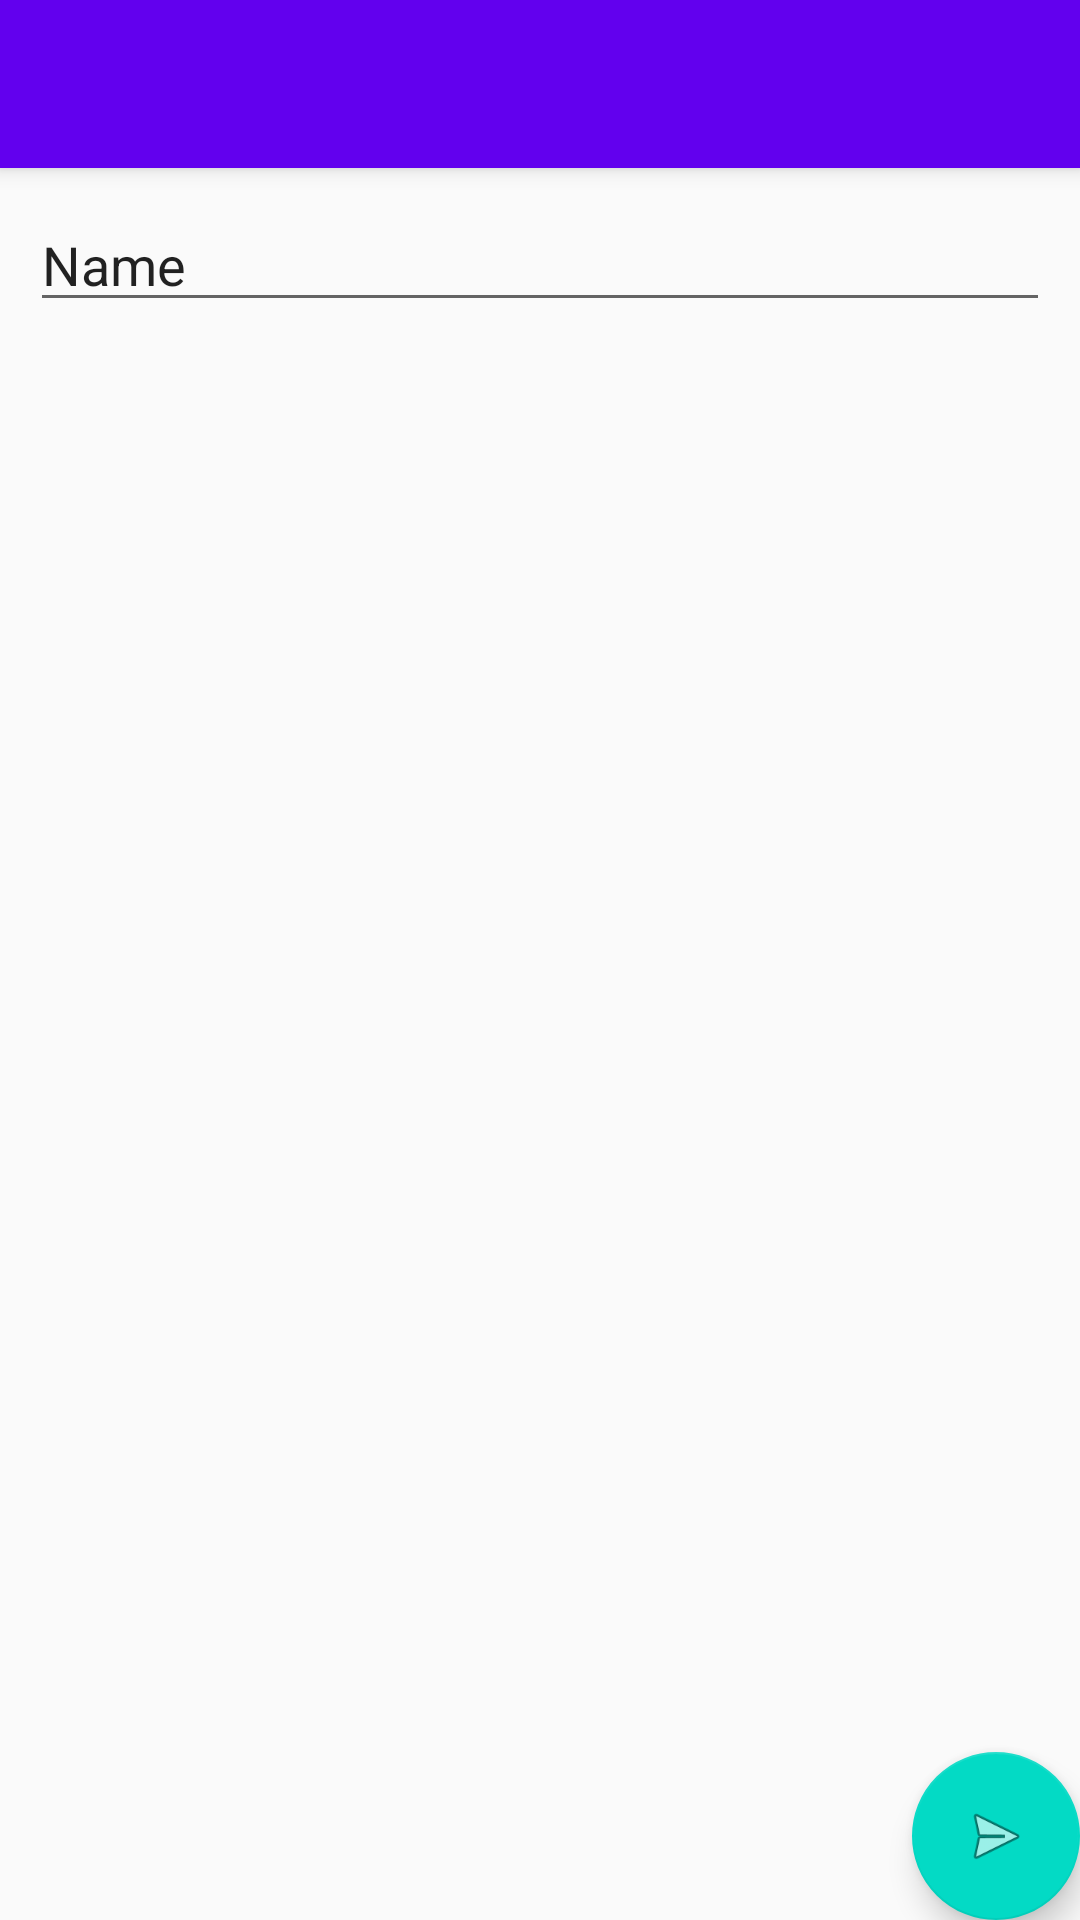

Where to tap for icons on this 1080*1920 app screen, as (x=x, y=y):
send: (x=996, y=1836)
